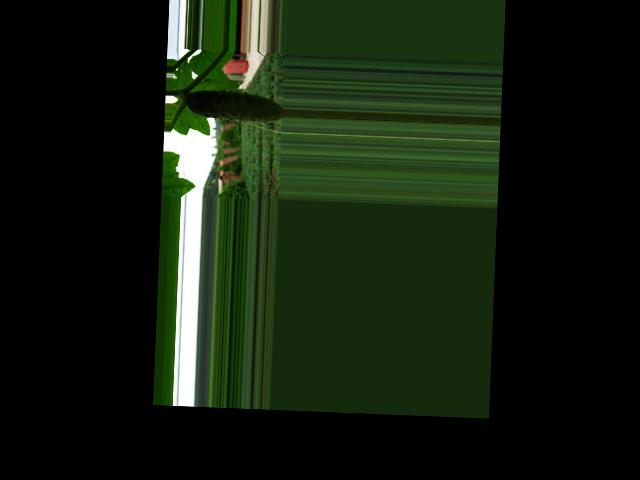cucumber: (187, 89, 284, 124)
